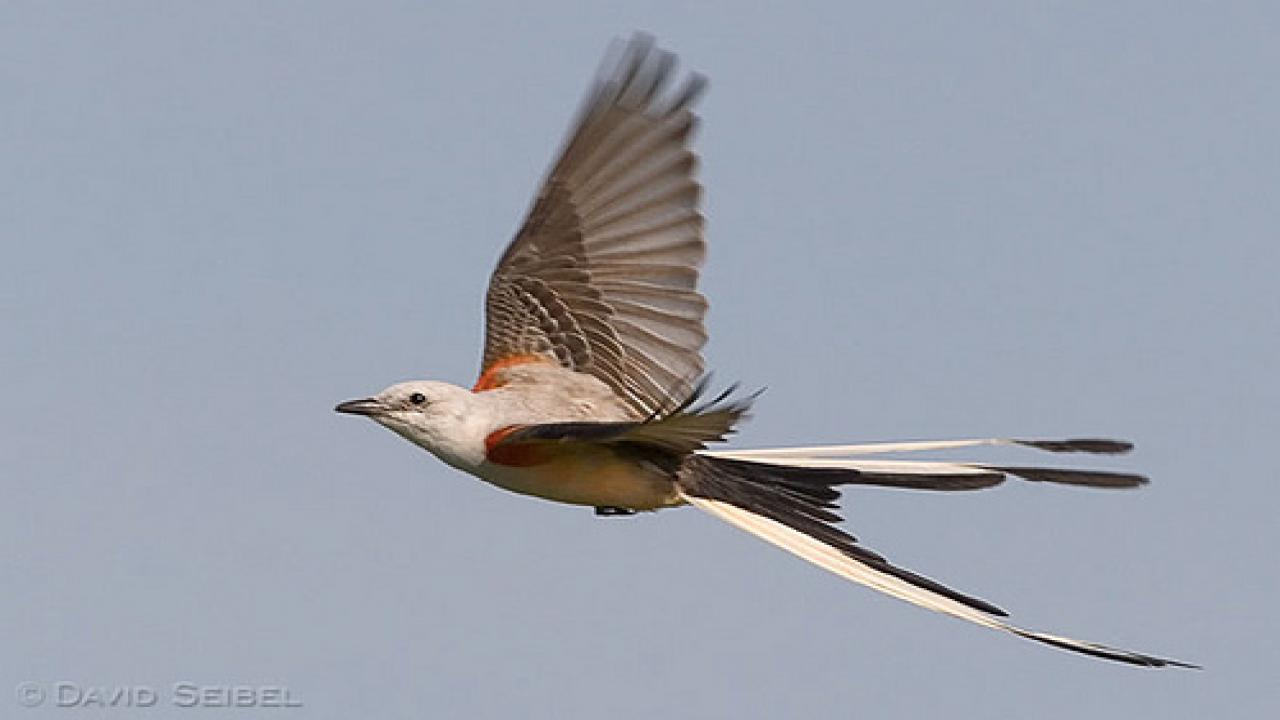Bird: (321, 26, 1214, 686)
